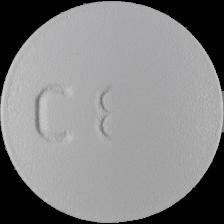61919-826: (0, 0, 224, 224)
